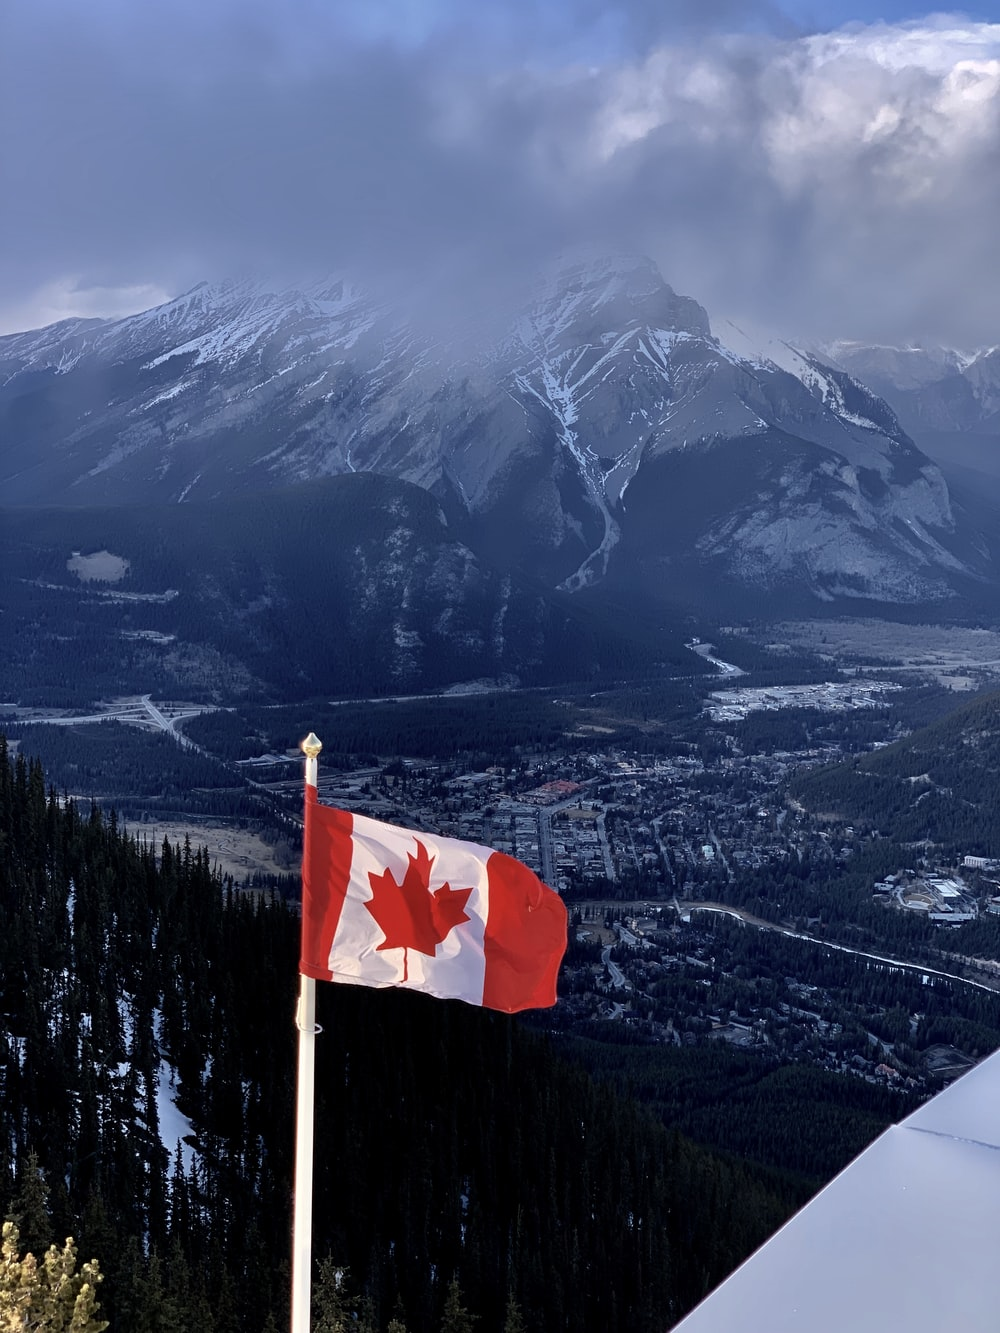Canada flag: (289, 794, 578, 1019)
